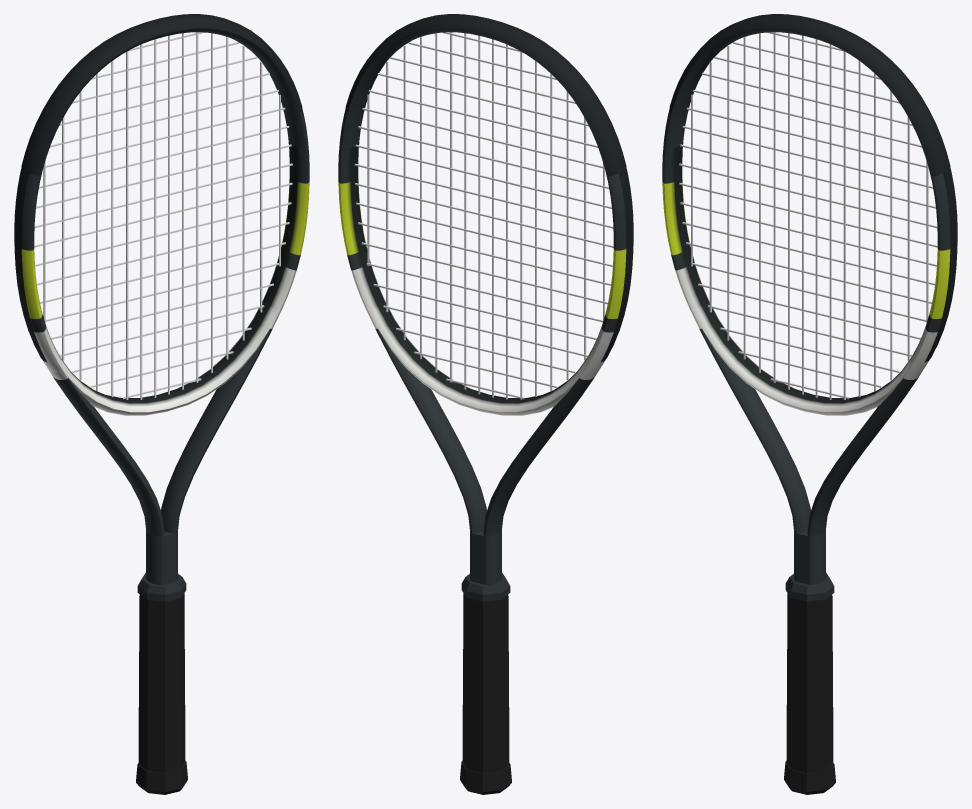
File: babolat-pure-aero-lite-2022.glb
The picture shows the model from 3 angles, left to right: view 1: azimuth 30°, elevation 25°; view 2: azimuth 150°, elevation 25°; view 3: azimuth 330°, elevation 25°; orthographic projection.
Visible parts, largest first — view 1: frame, strings_mains, strings_crosses, grip, bumper, grommets, butt_cap, collar; view 2: frame, strings_mains, strings_crosses, grip, bumper, grommets, butt_cap, collar; view 3: frame, strings_mains, strings_crosses, grip, bumper, grommets, butt_cap, collar.
Part boxes in pixels (<box>): frame: <box>14,28,309,584</box>; strings_mains: <box>43,32,280,399</box>; strings_crosses: <box>34,32,292,399</box>; grip: <box>138,593,185,772</box>; bumper: <box>21,14,302,176</box>; grommets: <box>14,168,47,362</box>; butt_cap: <box>136,761,187,794</box>; collar: <box>137,573,186,601</box>; frame: <box>338,28,633,584</box>; strings_mains: <box>367,32,604,399</box>; strings_crosses: <box>354,32,613,399</box>; grip: <box>462,593,509,772</box>; bumper: <box>345,14,626,176</box>; grommets: <box>600,168,633,362</box>; butt_cap: <box>460,761,511,794</box>; collar: <box>461,573,510,601</box>; frame: <box>662,28,957,584</box>; strings_mains: <box>691,32,928,399</box>; strings_crosses: <box>679,32,937,399</box>; grip: <box>786,593,833,772</box>; bumper: <box>669,14,950,176</box>; grommets: <box>924,168,957,362</box>; butt_cap: <box>784,761,835,794</box>; collar: <box>785,573,834,601</box>.
Size of the model in its own units: 0.2718 by 0.6861 by 0.0396.
